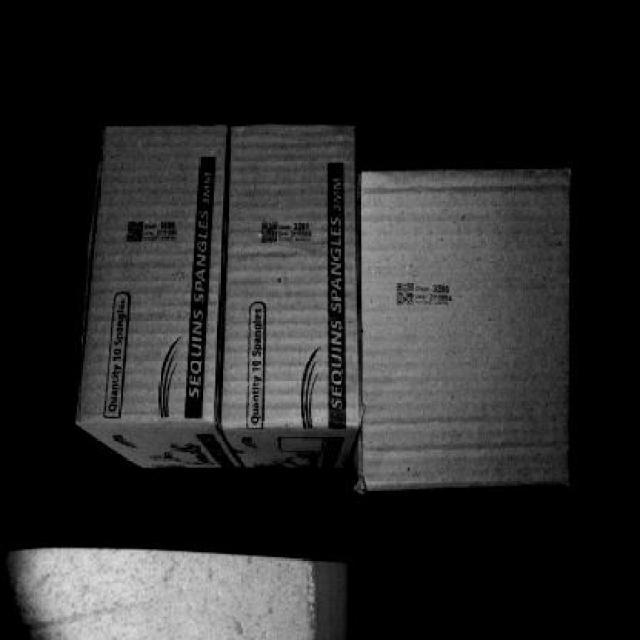box: (367, 174, 567, 482), (88, 128, 230, 417), (232, 132, 356, 423)
